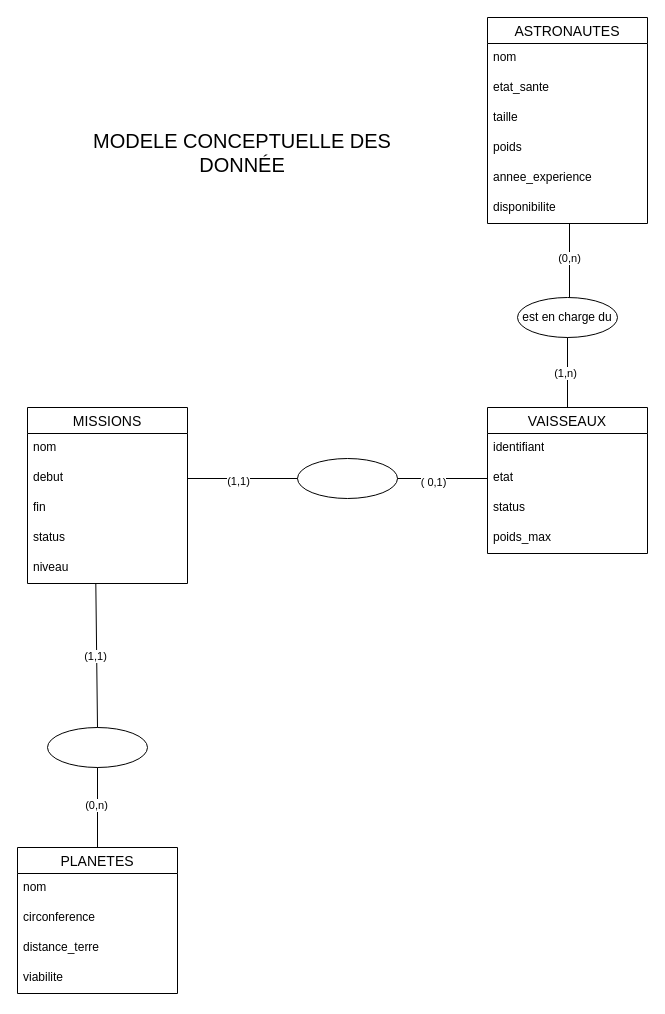
Some shapes in this 665 by 1014 pixel diagram are drawn without their labels. The centre of each missing label's shape, as x and y in pixels:
"est assignée à" goes at [347,478].
"est associé à" goes at [97,747].
